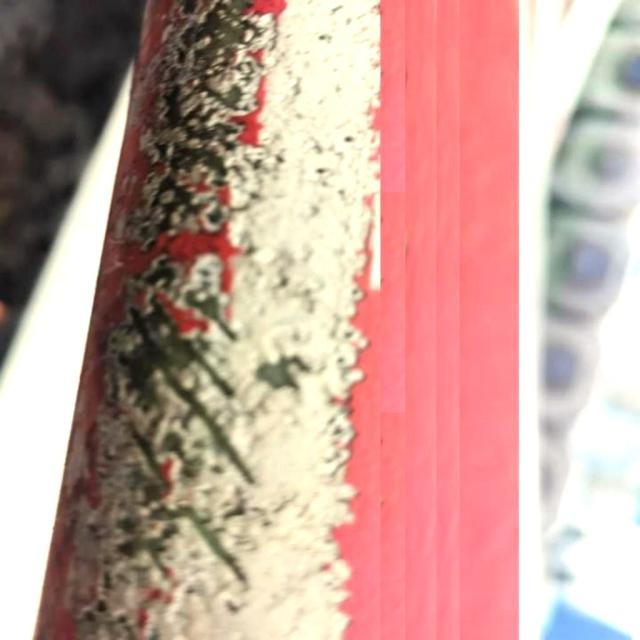corrosion: (73, 1, 375, 640)
